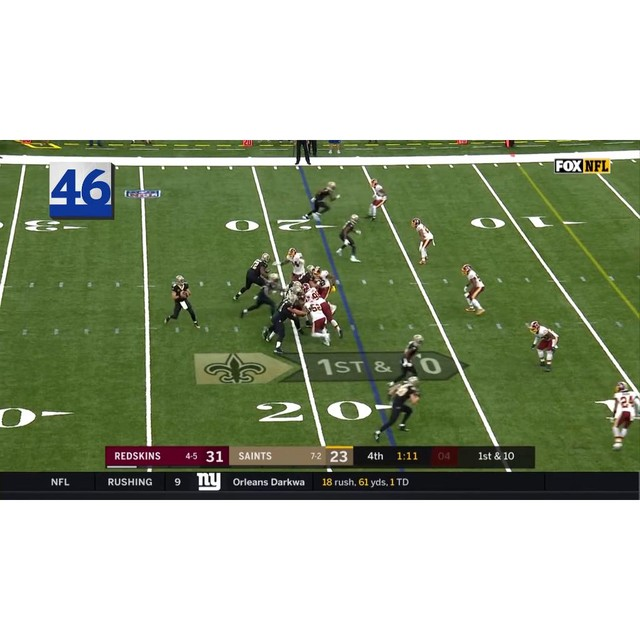american-football-player: (375, 376, 420, 441), (604, 382, 639, 451), (262, 295, 301, 353), (239, 273, 281, 321), (390, 334, 424, 389), (233, 252, 271, 301), (165, 276, 199, 328), (527, 320, 559, 372), (302, 182, 339, 221), (304, 296, 332, 347), (461, 263, 485, 315), (336, 214, 362, 262), (412, 218, 434, 265), (280, 248, 308, 284), (309, 265, 336, 300), (368, 178, 388, 221)
